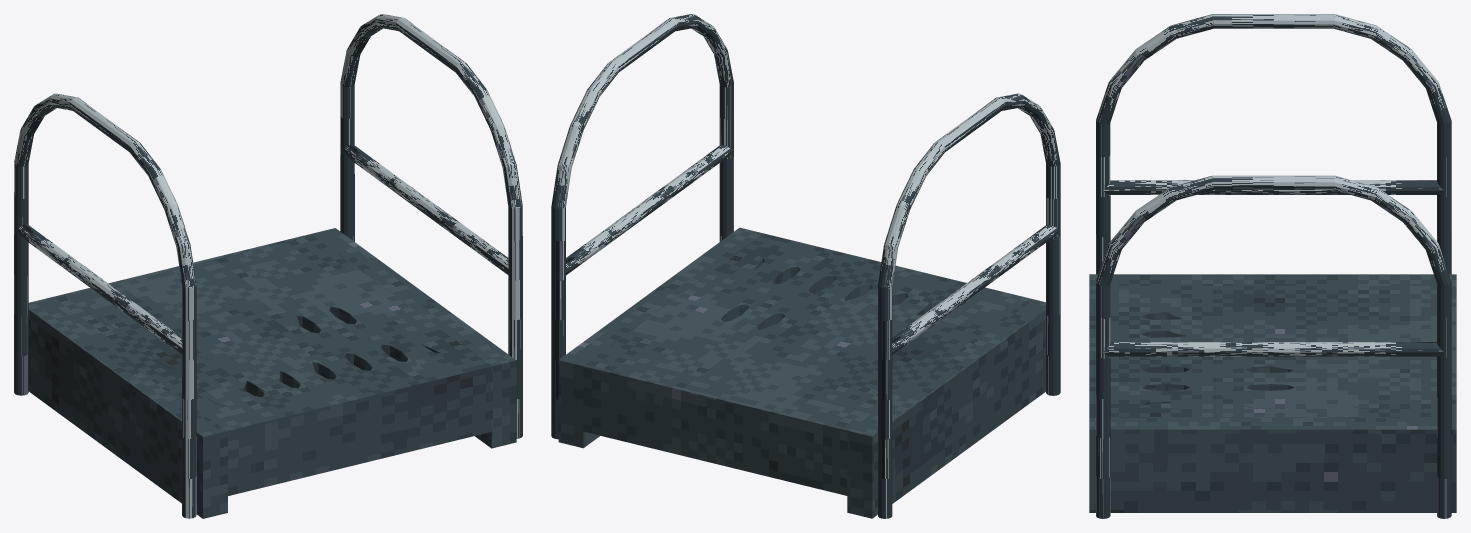
The model's file is catPlat1x1.fbx.
The picture shows the model from 3 angles, left to right: view 1: azimuth 30°, elevation 25°; view 2: azimuth 150°, elevation 25°; view 3: azimuth 270°, elevation 25°; orthographic projection.
Visible parts, largest first — view 1: CatPlat1, catPlat1Rail.001, catPlat1Rail.002; view 2: CatPlat1, catPlat1Rail.001, catPlat1Rail.002; view 3: CatPlat1, catPlat1Rail.002, catPlat1Rail.001.
Part boxes in pixels (box(x1,y1,x2,y2)): CatPlat1: box(28, 228, 516, 518); catPlat1Rail.001: box(14, 93, 196, 518); catPlat1Rail.002: box(340, 14, 522, 438); CatPlat1: box(558, 227, 1045, 518); catPlat1Rail.001: box(878, 93, 1060, 518); catPlat1Rail.002: box(551, 14, 733, 439); CatPlat1: box(1089, 274, 1456, 512); catPlat1Rail.002: box(1096, 175, 1451, 518); catPlat1Rail.001: box(1096, 14, 1451, 274).
Bounding box in the file's own units: 216 × 200 × 204.
2 materials, 2 textured.
